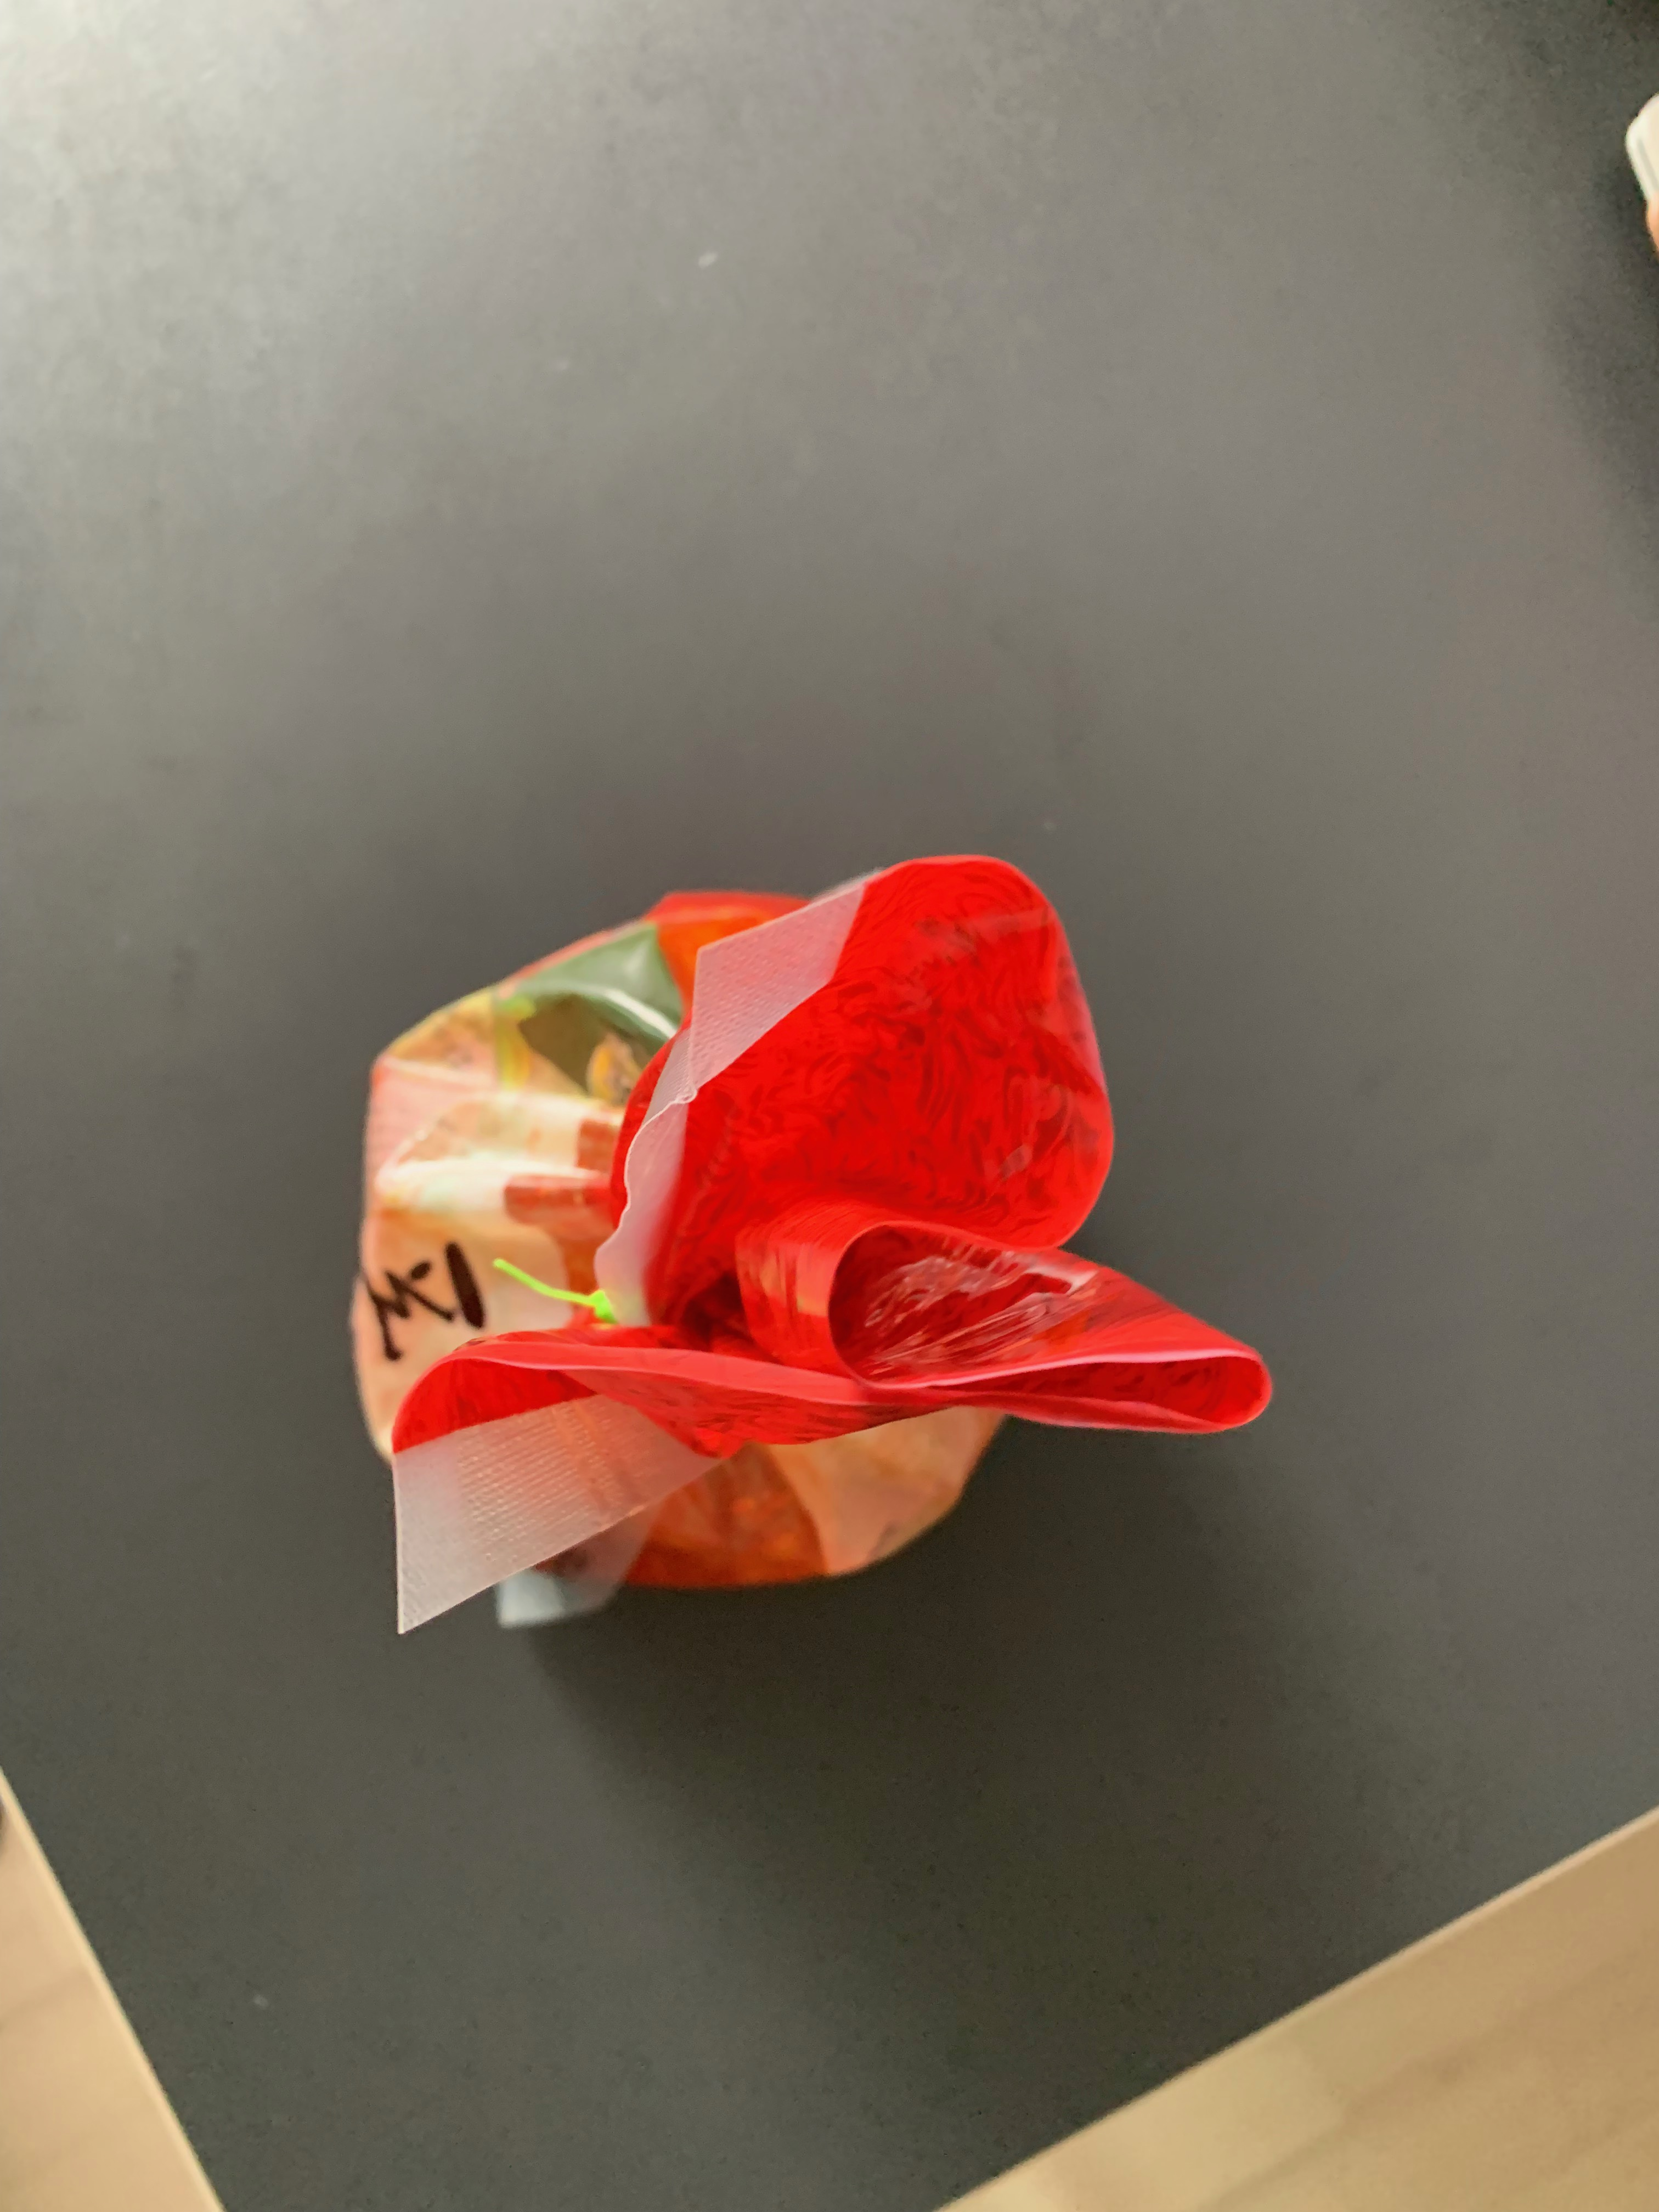kimchi: (357, 848, 1274, 1587)
